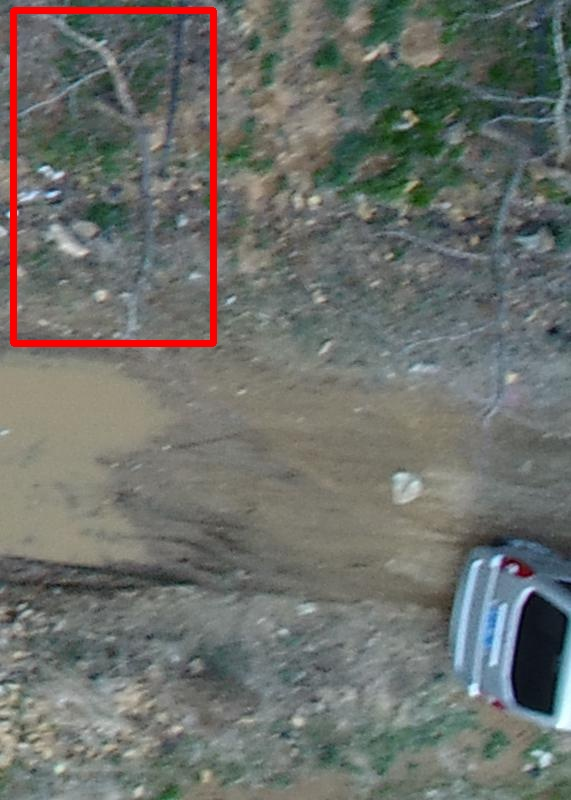apple: (13, 10, 213, 343)
